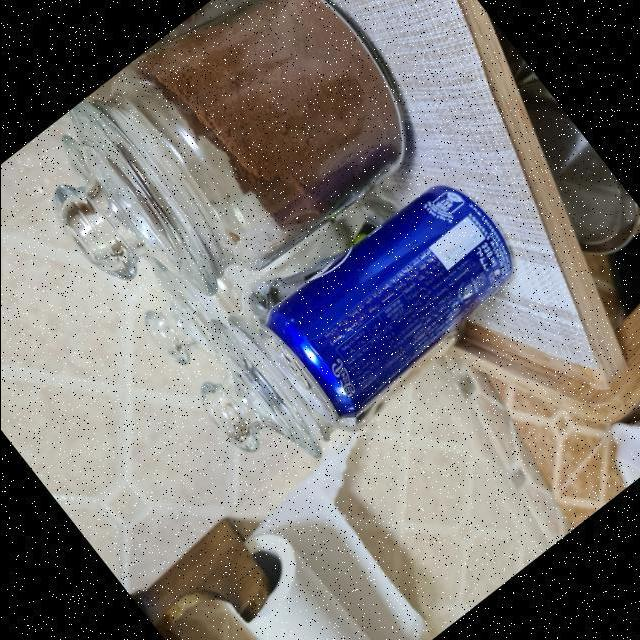can: (237, 157, 536, 440)
